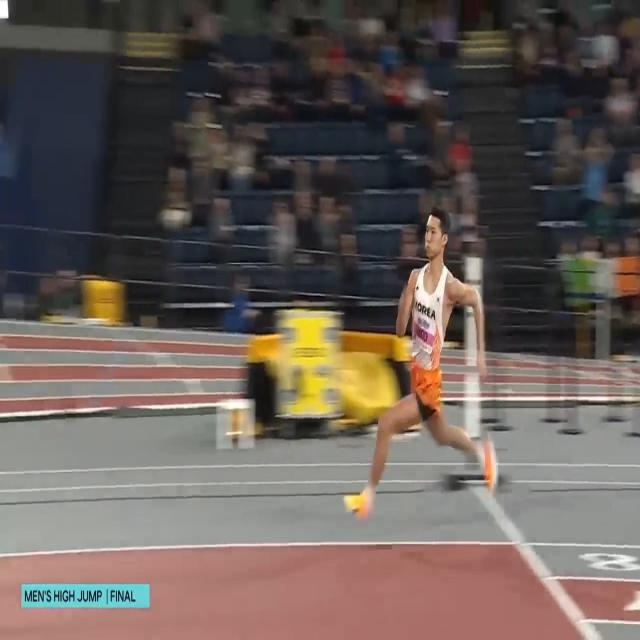run: (342, 204, 498, 522)
